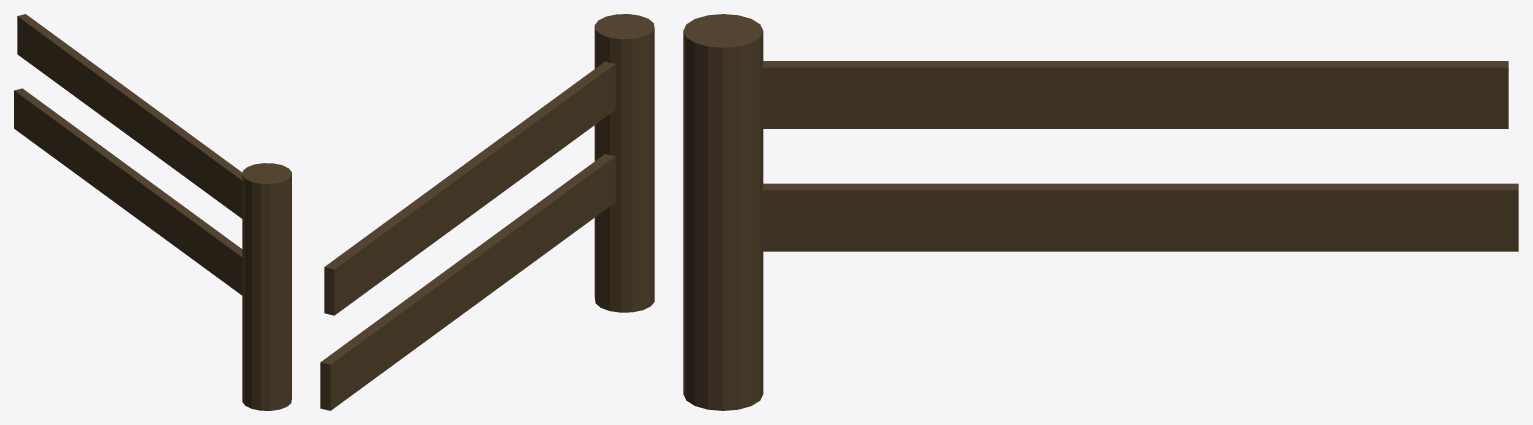
File: FenceLongOpen.fbx
The picture shows the model from 3 angles, left to right: view 1: azimuth 30°, elevation 25°; view 2: azimuth 150°, elevation 25°; view 3: azimuth 270°, elevation 25°; orthographic projection. The views are drawn at different scales.
Parts seen in each view (by area): view 1: Post1.003, Cube.007, Cube.006; view 2: Cube.007, Cube.006, Post1.003; view 3: Cube.007, Cube.006, Post1.003.
Boxes of the visible parts, bbox=[...] form: Post1.003: bbox=[242, 163, 291, 410]; Cube.007: bbox=[14, 88, 242, 295]; Cube.006: bbox=[17, 14, 242, 218]; Cube.007: bbox=[320, 154, 615, 410]; Cube.006: bbox=[324, 61, 615, 315]; Post1.003: bbox=[594, 14, 654, 312]; Cube.007: bbox=[762, 183, 1518, 251]; Cube.006: bbox=[762, 61, 1508, 128]; Post1.003: bbox=[683, 14, 763, 410].
Size of the model in its own units: 20 by 100 by 209.
